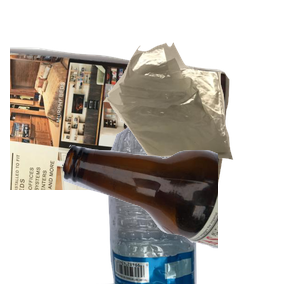glass: (60, 142, 300, 300)
paper: (10, 44, 232, 224)
plastic: (96, 120, 285, 300)
trash: (101, 40, 300, 192)
